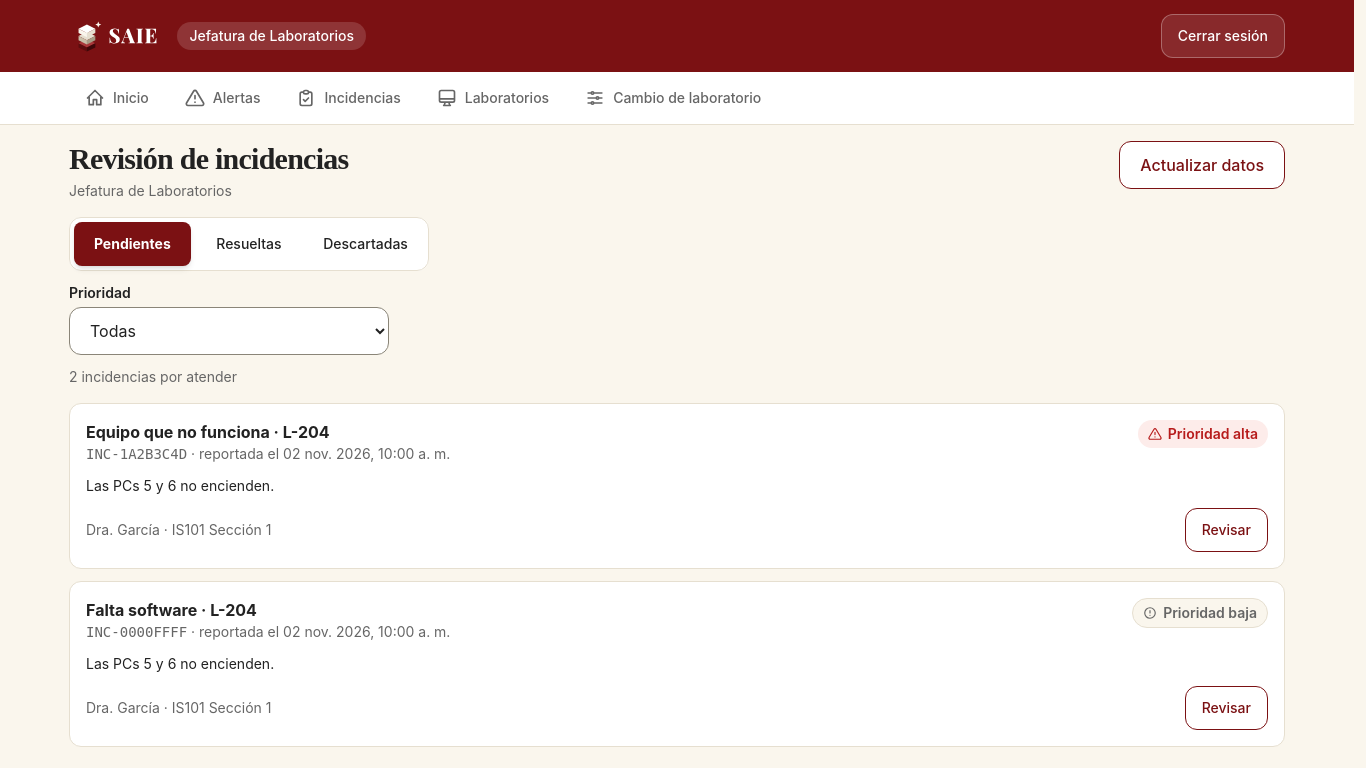
it: Revisión de incidencias por Jefatura (Issues 7.11 y 7.12) › si el cierre falla, avisa y deja la incidencia abierta
The image size is (1366, 768).
Click the button with aria-label "Revisar incidencia INC-1A2B3C4D": (1226, 530) [1185,508,1268,552]
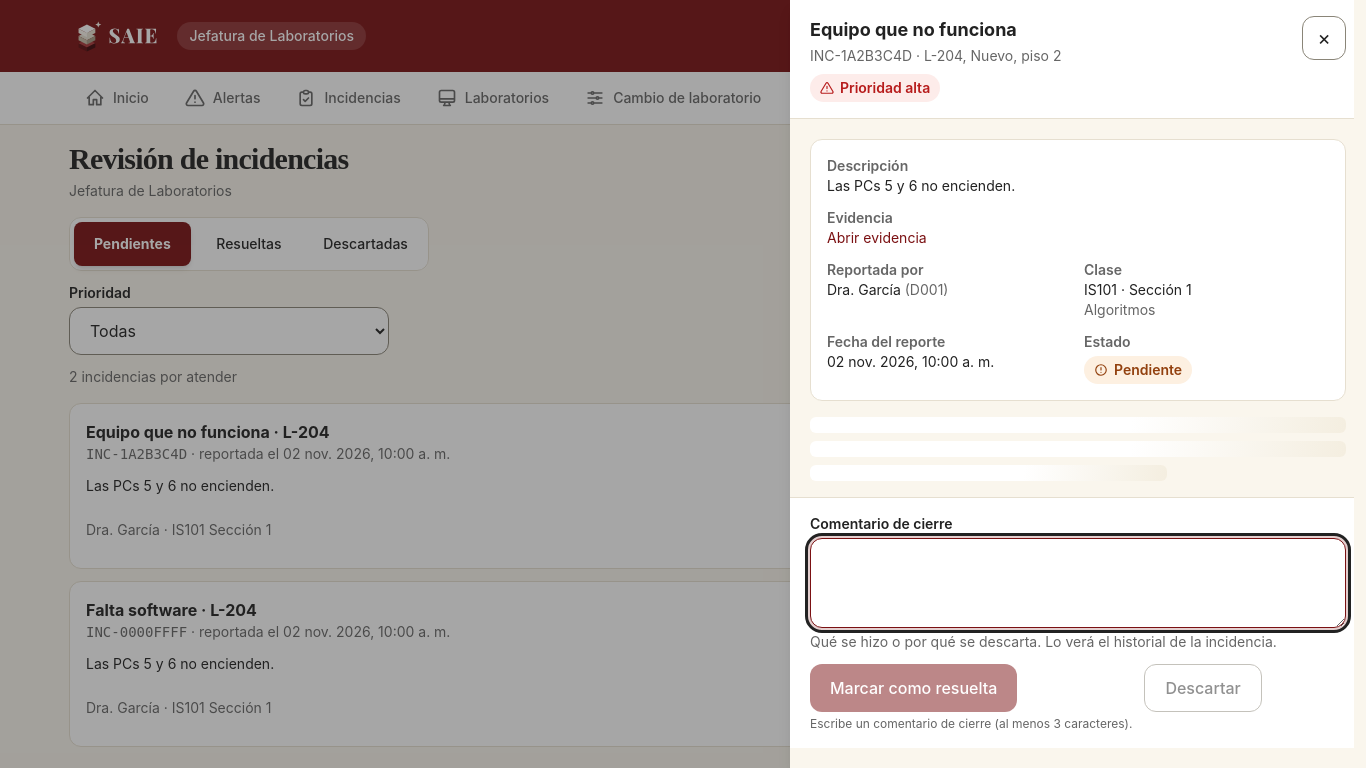
In the text box labelled "Comentario de cierre": (1078, 583) [810,538,1346,628], type "Listo"
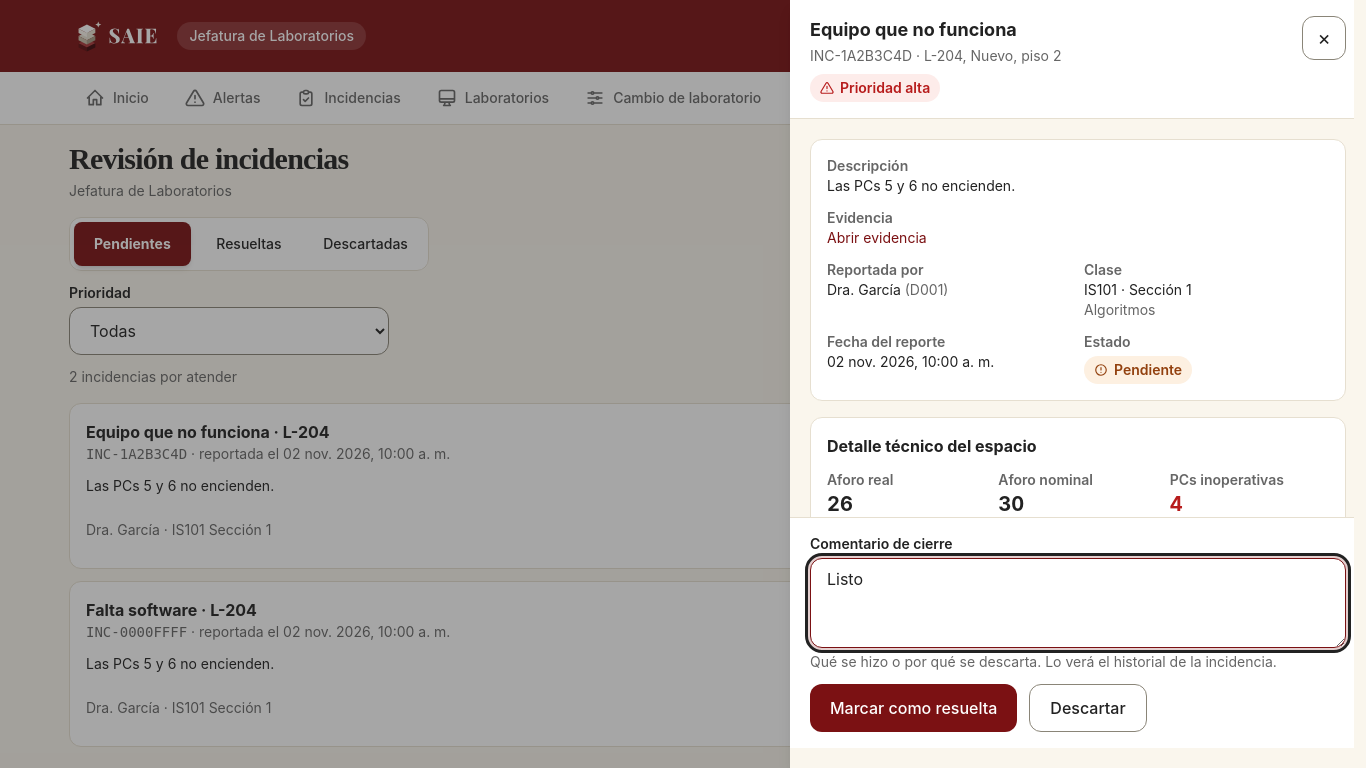
Click the button "Marcar como resuelta": (914, 708) [810,684,1017,732]
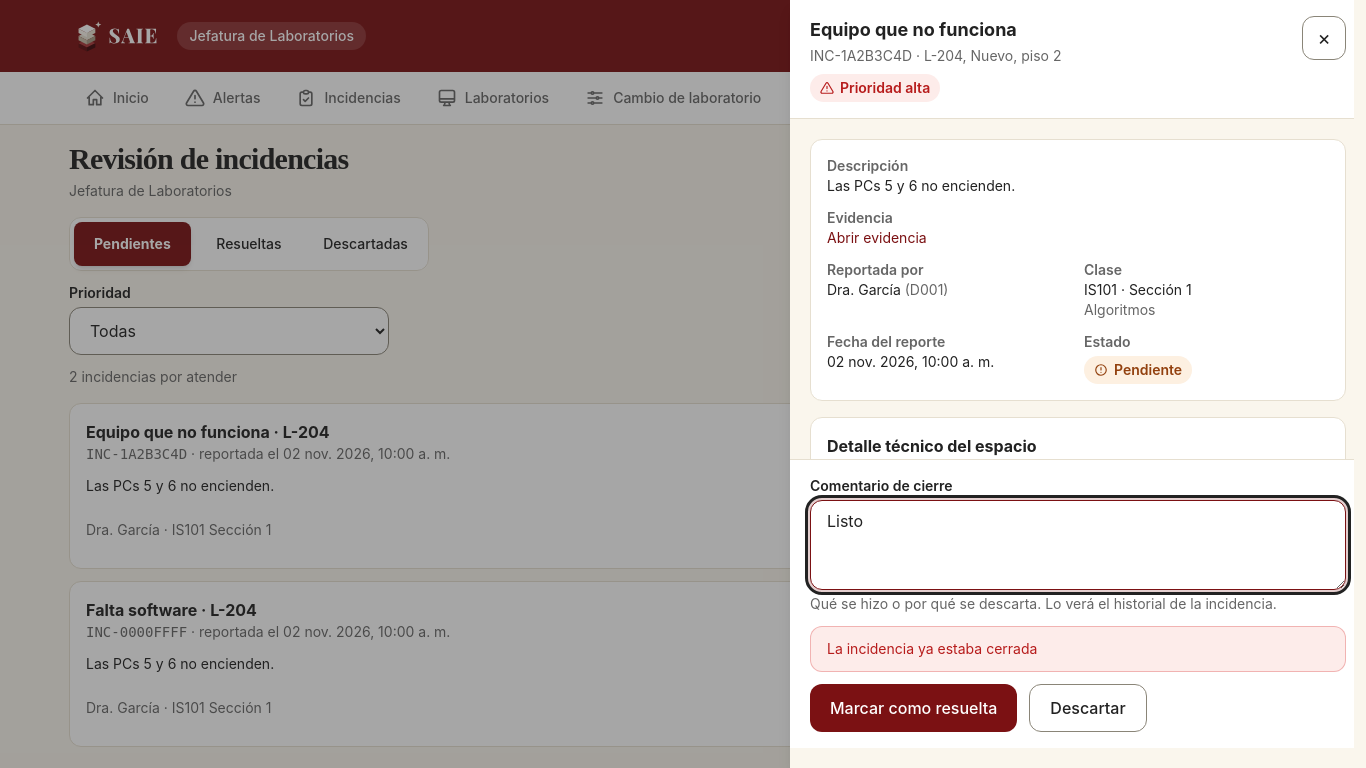
Expected: the dialog is shown, [790,0,1365,767]
Expected: the text "La incidencia ya estaba cerrada" is shown, [810,626,1346,672]
